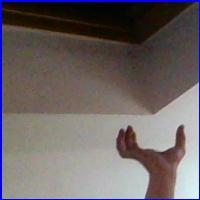space: (110, 121, 193, 166)
